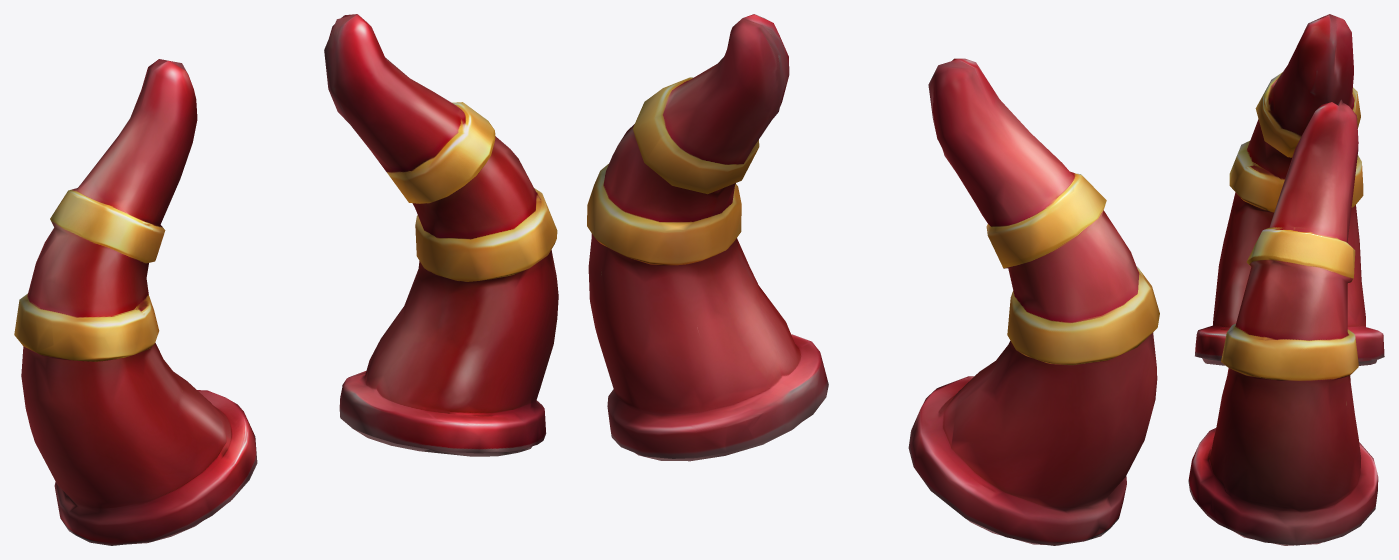
Rendered from Acc_HornsR4.glb.
3 views of the same model, side by side, from view 1: azimuth 30°, elevation 25°; view 2: azimuth 150°, elevation 25°; view 3: azimuth 270°, elevation 25° (orthographic). The views are drawn at different scales.
Visible parts, largest first — view 1: tripo_node_d88a4788-c738-49d3-8f20-51bac29aa50c; view 2: tripo_node_d88a4788-c738-49d3-8f20-51bac29aa50c; view 3: tripo_node_d88a4788-c738-49d3-8f20-51bac29aa50c.
Part boxes in pixels (x1,y1,x2,y2): tripo_node_d88a4788-c738-49d3-8f20-51bac29aa50c: (14, 14, 558, 545); tripo_node_d88a4788-c738-49d3-8f20-51bac29aa50c: (587, 14, 1159, 545); tripo_node_d88a4788-c738-49d3-8f20-51bac29aa50c: (1188, 14, 1384, 545).
Size of the model in its own units: 1.4 by 1.12 by 0.5116.
Materials: 1 (1 with a texture image).
